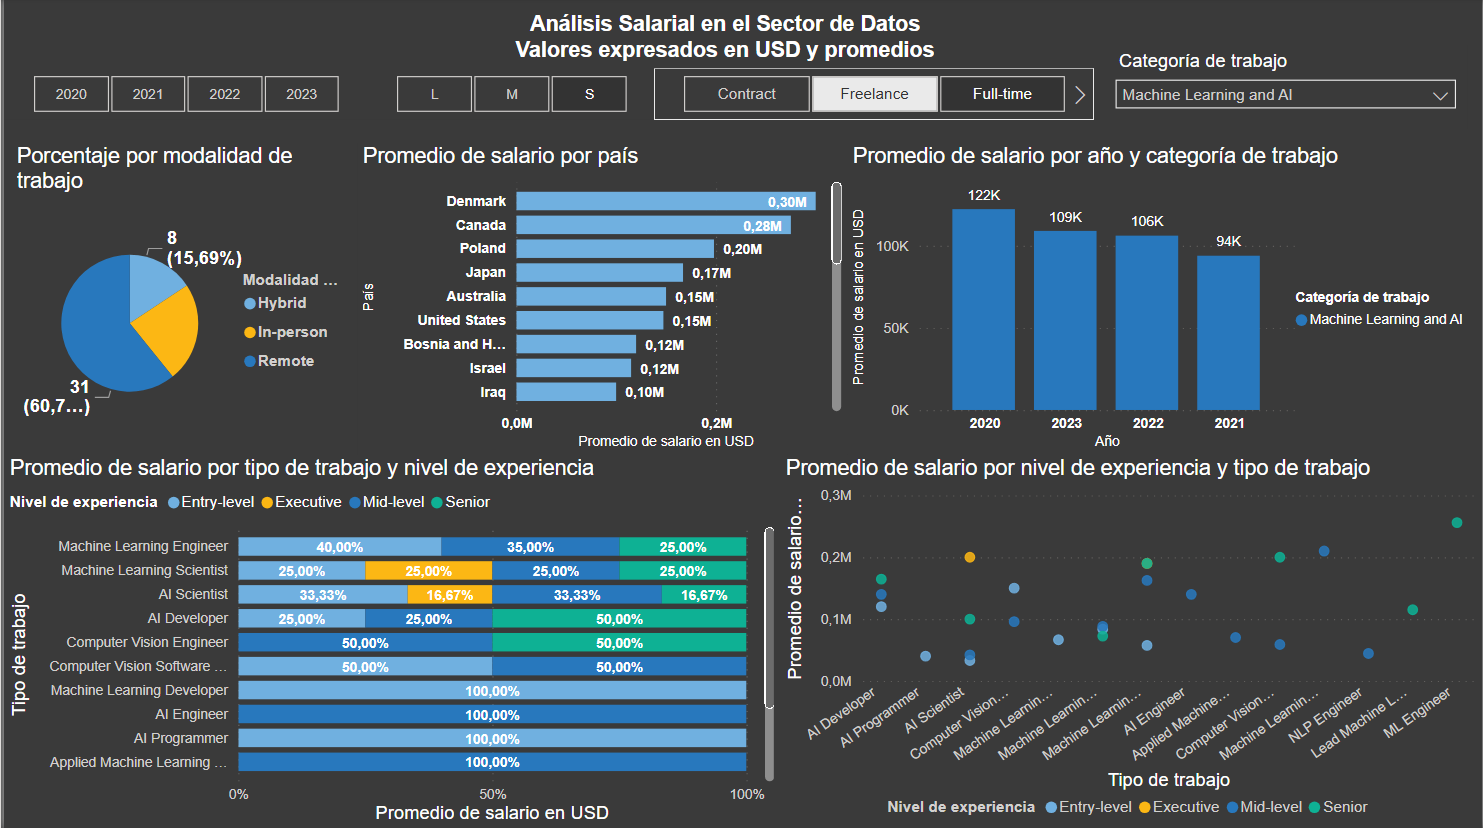

The dashboard page shown, as its layout file describes it:
{"tool":"powerbi","page":{"name":"Page 2","canvas":[1280,720],"ordinal":1},"visuals":[{"type":"scatterChart","title":"Promedio de salario por nivel de experiencia y tipo de trabajo","fields":{"Y":["Avg(Jobs and Salaries in Data Fields.salary_in_usd)"],"X":["Jobs and Salaries in Data Fields.job_title"],"Series":["Jobs and Salaries in Data Fields.experience_level"]},"box":[672.3,396,607.4,324],"z":0},{"type":"slicer","fields":{"Values":["Jobs and Salaries in Data Fields.job_category"]},"box":[953.1,40.7,314.5,71.9],"z":1000},{"type":"slicer","fields":{"Values":["Jobs and Salaries in Data Fields.work_year"]},"box":[0,60.6,314.2,45.1],"z":2000},{"type":"slicer","fields":{"Values":["Jobs and Salaries in Data Fields.company_size"]},"box":[314.2,60.6,249.4,45.1],"z":3000},{"type":"barChart","title":" Promedio de salario por país","fields":{"Y":["Avg(Jobs and Salaries in Data Fields.salary)"],"Category":["Jobs and Salaries in Data Fields.company_location"]},"box":[305.8,125.6,424.5,270.3],"z":4000},{"type":"slicer","fields":{"Values":["Jobs and Salaries in Data Fields.employment_type"]},"box":[563.6,60.6,380.4,45.1],"z":5000},{"type":"pieChart","title":"Porcentaje por modalidad de trabajo","fields":{"Y":["CountNonNull(Jobs and Salaries in Data Fields.work_setting)"],"Series":["Jobs and Salaries in Data Fields.work_setting"]},"box":[6.1,125.6,299.8,270.3],"z":6000},{"type":"hundredPercentStackedBarChart","title":"Promedio de salario por tipo de trabajo y nivel de experiencia","fields":{"Category":["Jobs and Salaries in Data Fields.job_title"],"Y":["CountNonNull(Jobs and Salaries in Data Fields.salary_in_usd)"],"Series":["Jobs and Salaries in Data Fields.experience_level"]},"box":[0,396,672.3,324],"z":7000},{"type":"clusteredColumnChart","title":"Promedio de salario por año y categoría de trabajo","fields":{"Category":["Jobs and Salaries in Data Fields.work_year"],"Y":["Avg(Jobs and Salaries in Data Fields.salary_in_usd)"],"Series":["Jobs and Salaries in Data Fields.job_category"]},"box":[730.4,125.6,549.3,270.3],"z":8000},{"type":"textbox","box":[305.8,6.9,637.7,53.7],"z":9000}]}

Visuals, with their boxes in screenshot pixels (x1, y1, x2, y2), scaled from the page's 1280x720 canvas onto the 1483x828 screenshot:
"Promedio de salario por nivel de experiencia y tipo de trabajo" scatterChart: region(779, 455, 1482, 827)
slicer - Jobs and Salaries in Data Fields.job_category: region(1104, 47, 1469, 129)
slicer - Jobs and Salaries in Data Fields.work_year: region(0, 70, 364, 122)
slicer - Jobs and Salaries in Data Fields.company_size: region(364, 70, 653, 122)
" Promedio de salario por país" barChart: region(354, 144, 846, 455)
slicer - Jobs and Salaries in Data Fields.employment_type: region(653, 70, 1094, 122)
"Porcentaje por modalidad de trabajo" pieChart: region(7, 144, 354, 455)
"Promedio de salario por tipo de trabajo y nivel de experiencia" hundredPercentStackedBarChart: region(0, 455, 779, 827)
"Promedio de salario por año y categoría de trabajo" clusteredColumnChart: region(846, 144, 1482, 455)
textbox: region(354, 8, 1093, 70)
